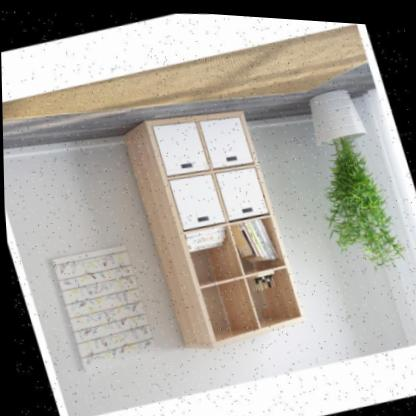Shelf: (108, 84, 307, 357)
